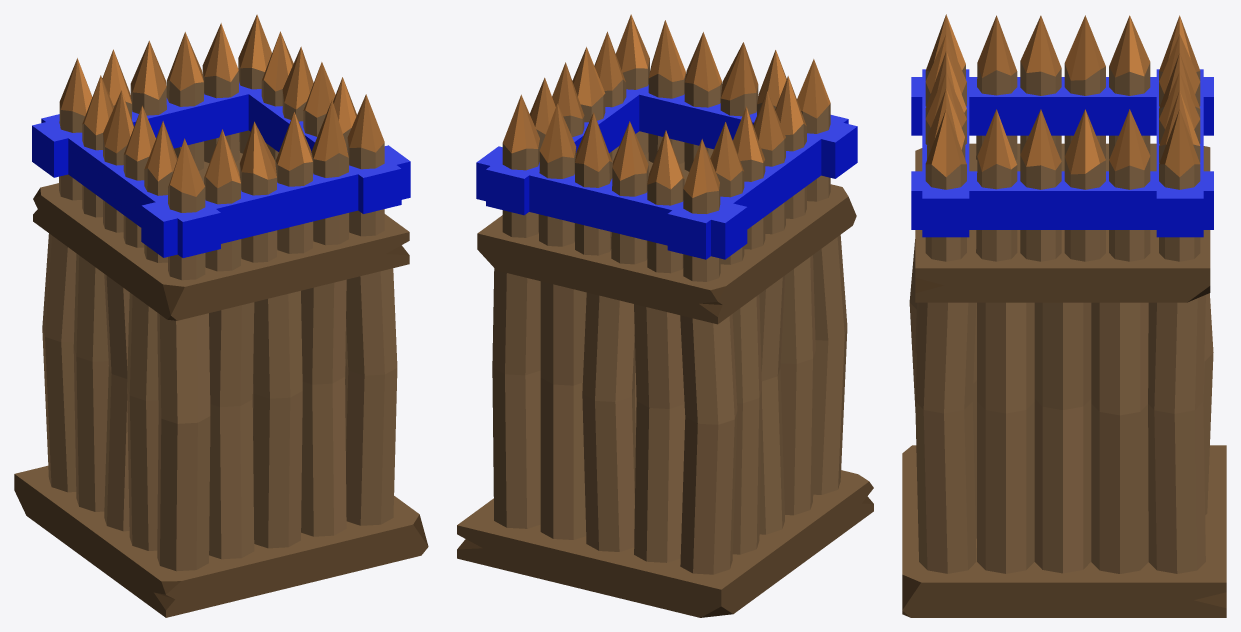
File: Tower1.fbx
The picture shows the model from 3 angles, left to right: view 1: azimuth 30°, elevation 25°; view 2: azimuth 150°, elevation 25°; view 3: azimuth 270°, elevation 25°; orthographic projection. The views are drawn at different scales.
Parts seen in each view (by area): view 1: Tower1; view 2: Tower1; view 3: Tower1.
Part boxes in pixels (<box>): Tower1: <box>14,14,428,617</box>; Tower1: <box>457,14,873,617</box>; Tower1: <box>902,14,1226,617</box>.
Size of the model in its own units: 300 by 500 by 300.
